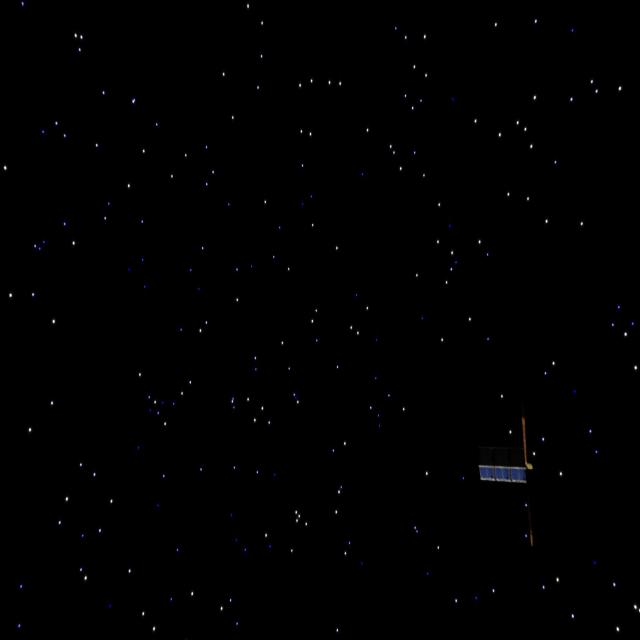medium_debris: (469, 413, 550, 555)
